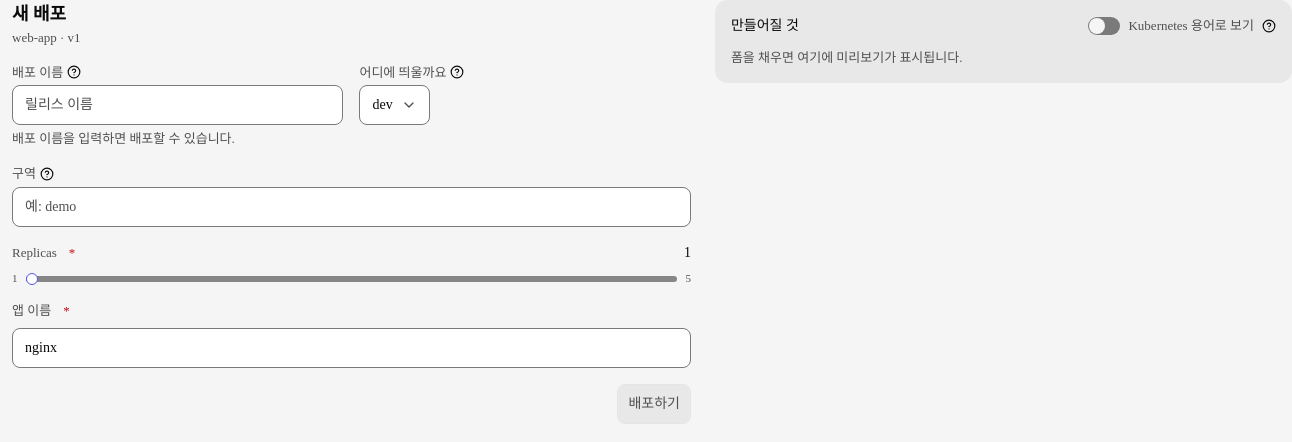
DeployClient › stays locked after a successful deploy while navigation is pending
The image size is (1292, 442).
Type "my-app" into the field labelled "배포 이름" at (178, 105), box [12,85,344,125]
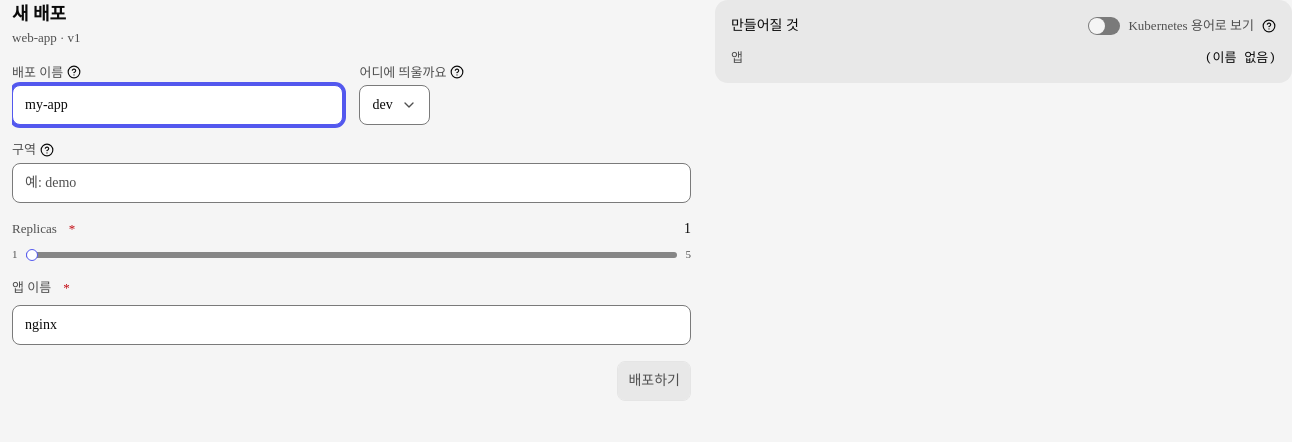
Type "default" into the field labelled "구역" at (351, 183), box [12,163,691,203]
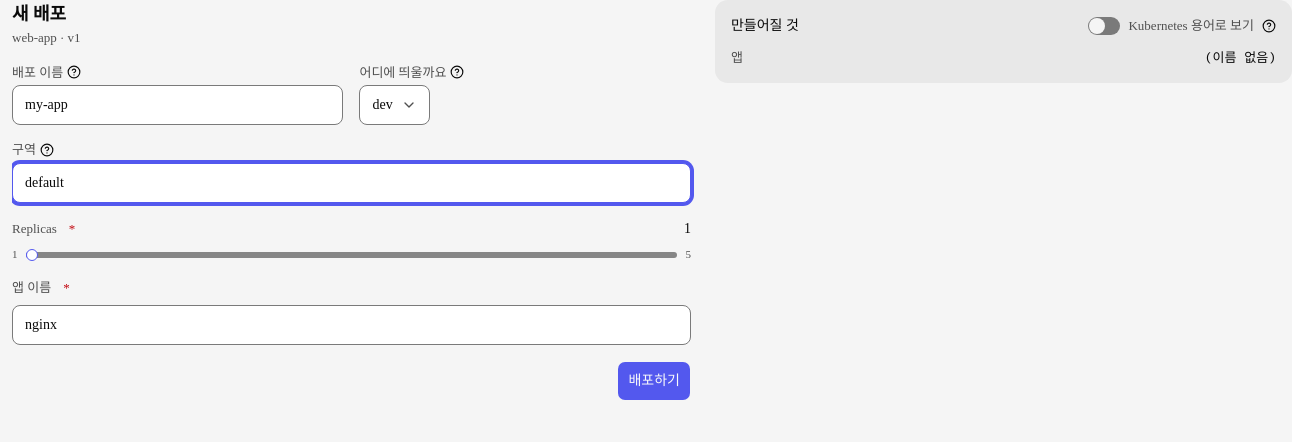
Result: the button "배포하기" is enabled
Click the button "배포하기" at (654, 381), box [617,361,691,401]
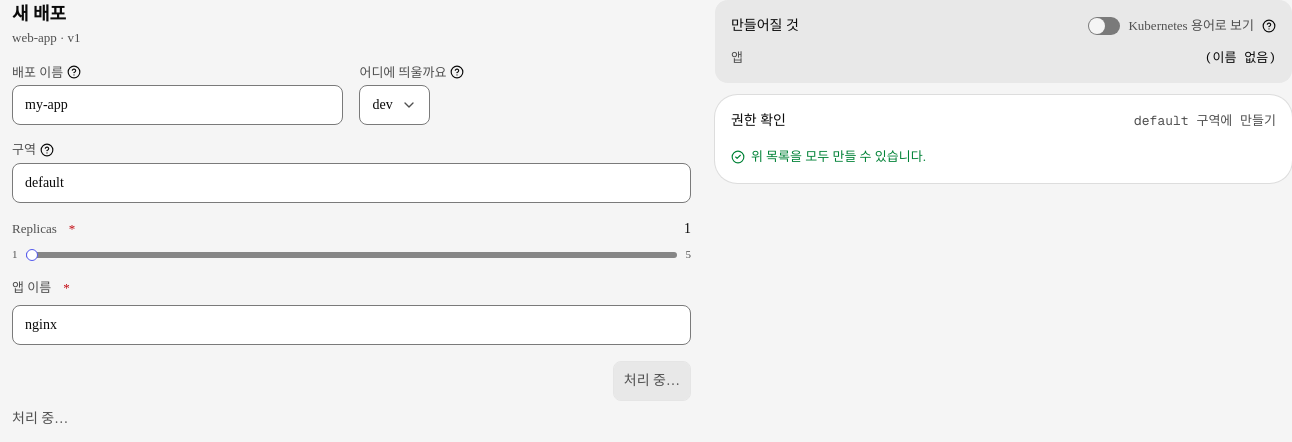
Result: the button named "배포하기" is disabled at [613,361,691,401]
